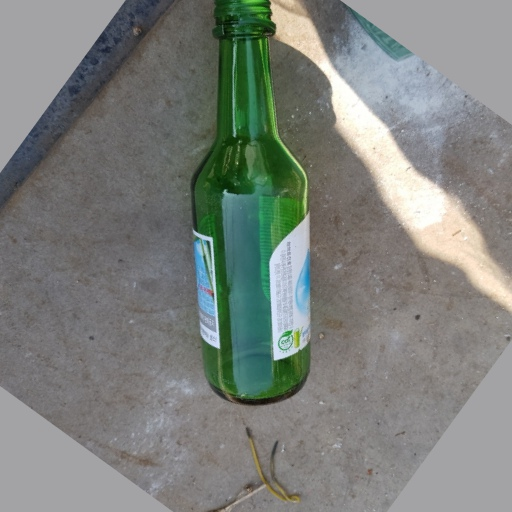Glass_0: (185, 1, 316, 407)
